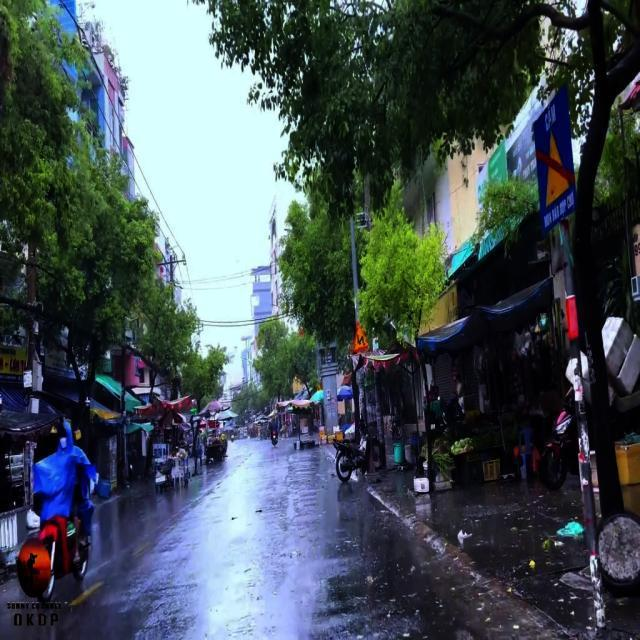201-cho-ngoat-nguy-hiem: (352, 321, 369, 351)
